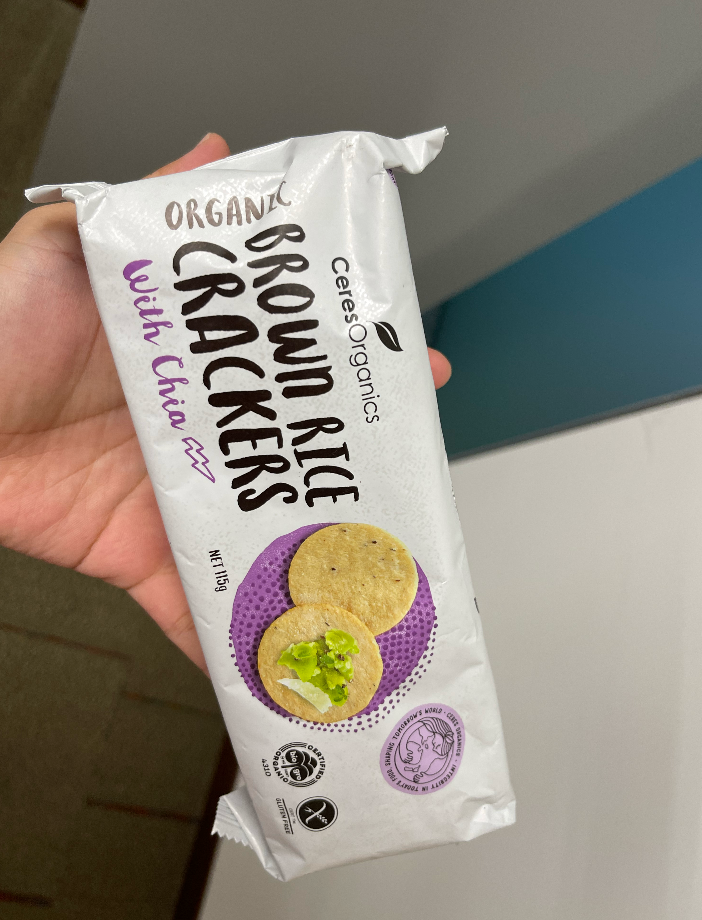crackers_100g-199g: (171, 176, 487, 822)
